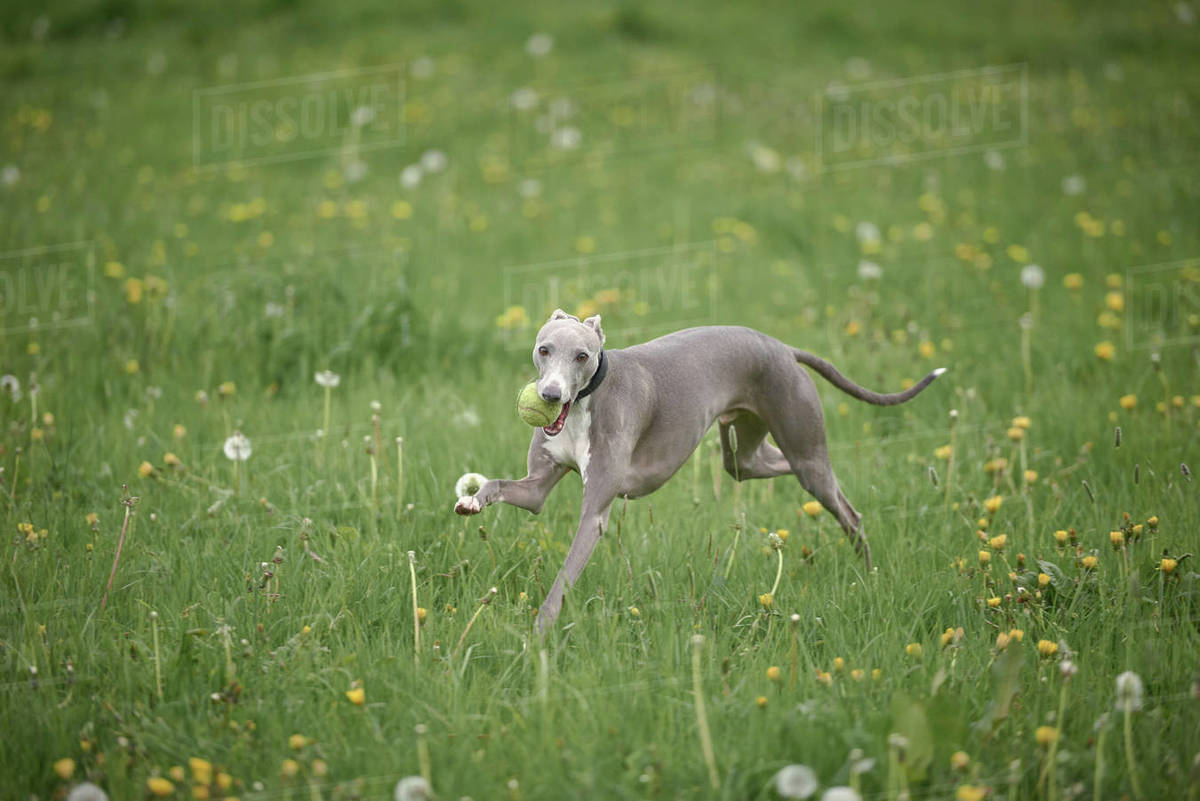tennis_ball: (512, 377, 566, 433)
